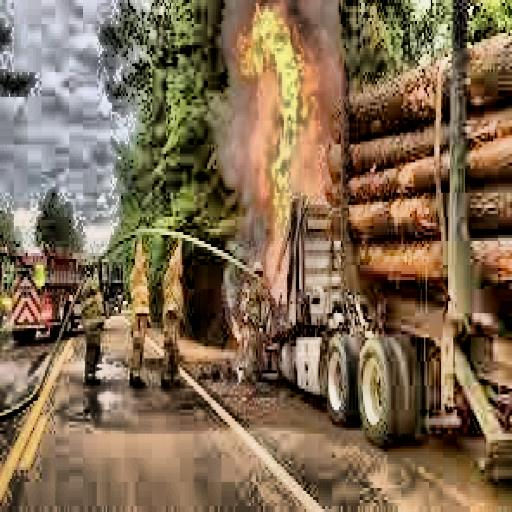fire: (225, 9, 353, 313)
